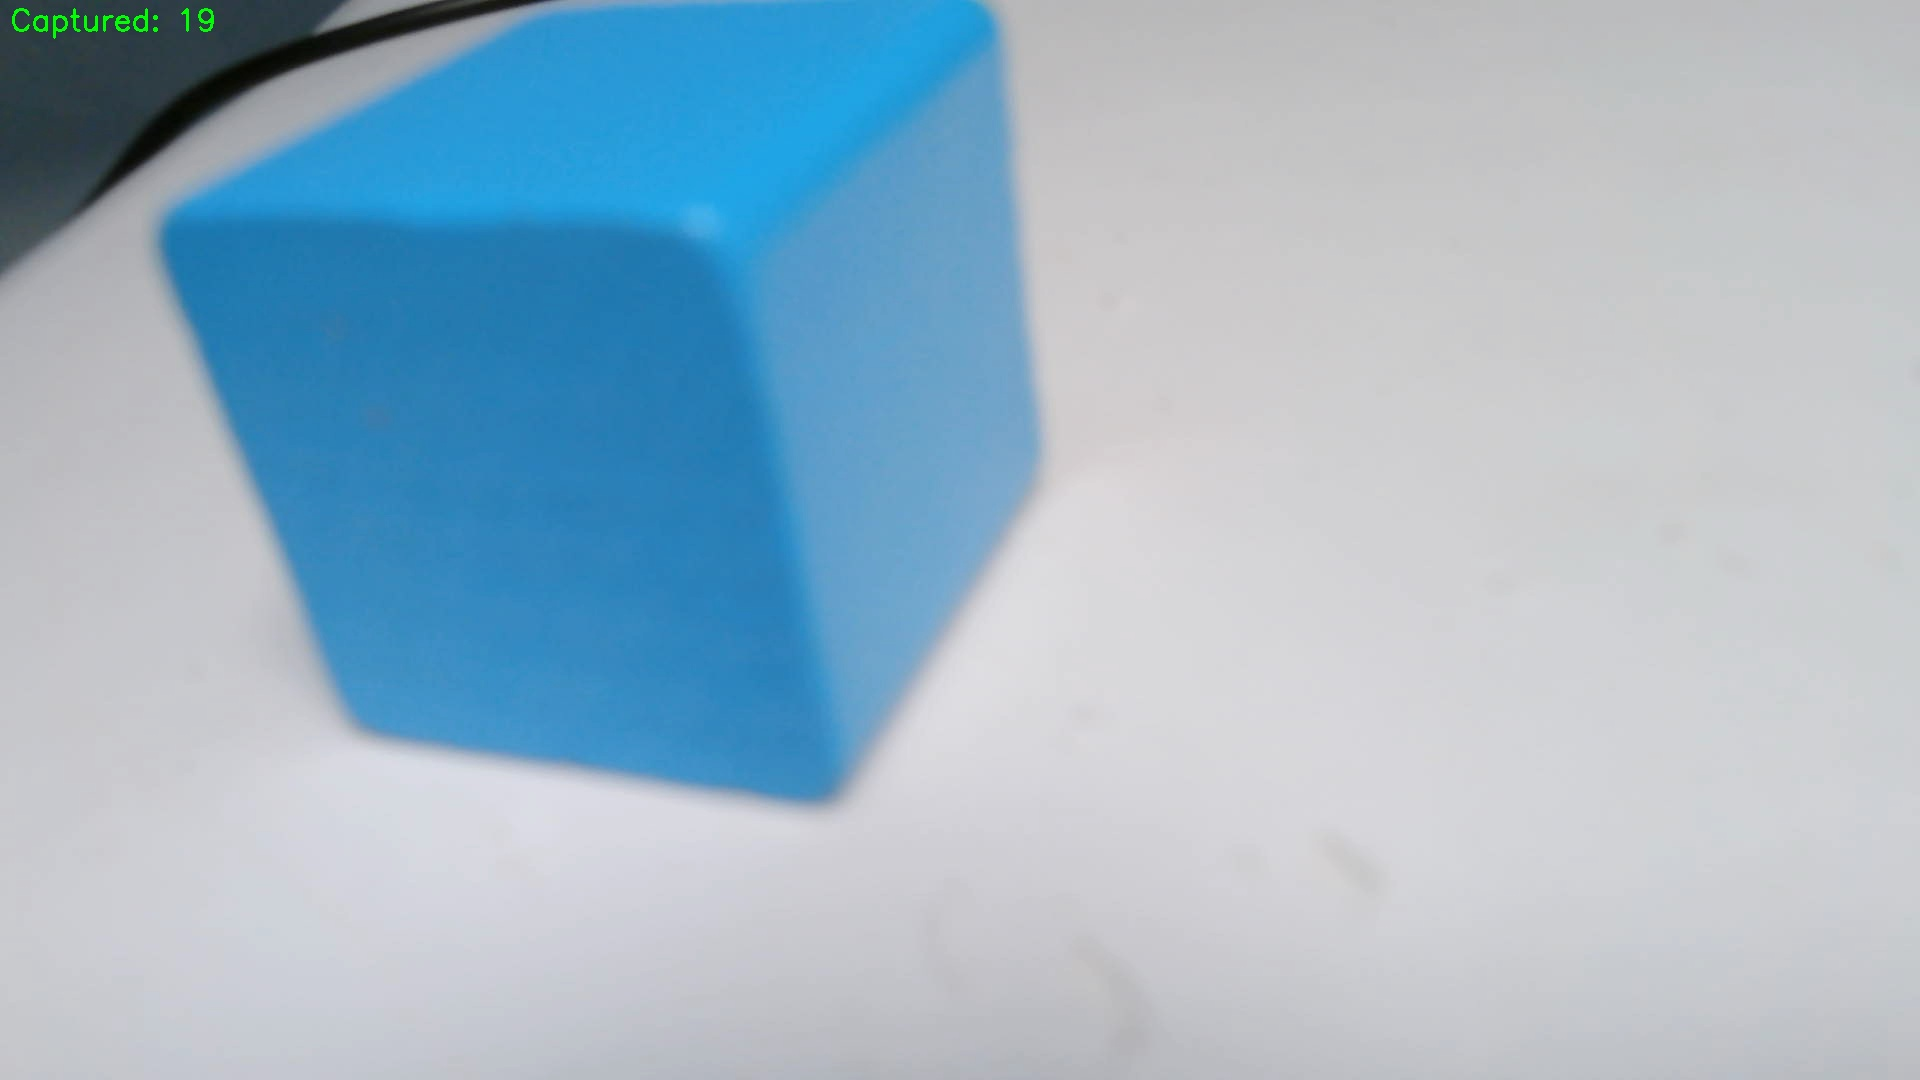blue: (156, 11, 1039, 804)
